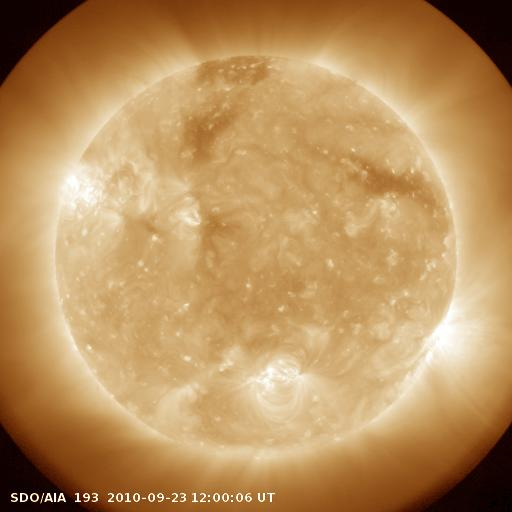coronal_hole: (185, 52, 271, 166), (349, 149, 444, 212)
